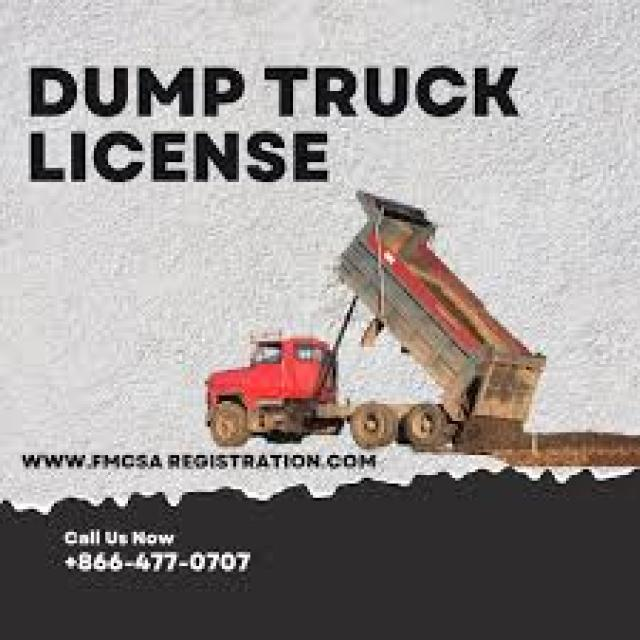dump_truck: (204, 191, 551, 454)
